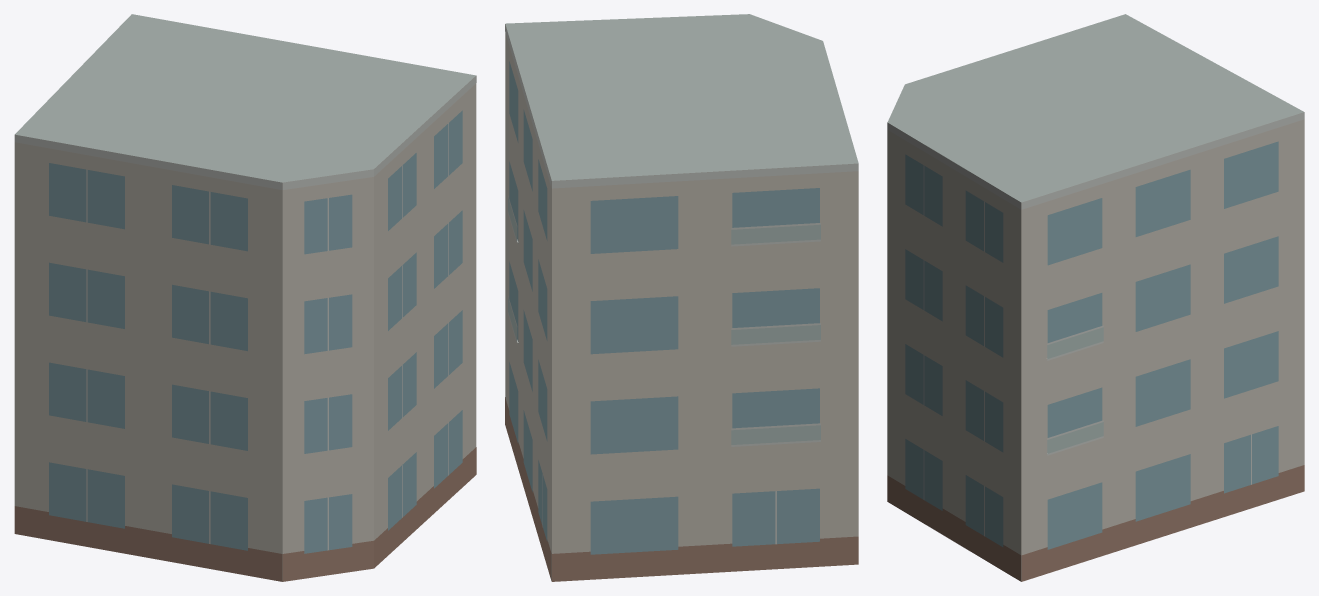
File: survey-upis-32582372.glb
The picture shows the model from 3 angles, left to right: view 1: azimuth 30°, elevation 25°; view 2: azimuth 150°, elevation 25°; view 3: azimuth 270°, elevation 25°; orthographic projection. The views are drawn at different scales.
Parts seen in each view (by area): view 1: survey-upis-32582372.tmp; view 2: survey-upis-32582372.tmp; view 3: survey-upis-32582372.tmp.
Part boxes in pixels (x1,y1,x2,y2): survey-upis-32582372.tmp: (14,14,476,581); survey-upis-32582372.tmp: (505,14,858,581); survey-upis-32582372.tmp: (887,14,1304,581).
Bounding box in the file's own units: 13.66 × 12.8 × 12.77.
